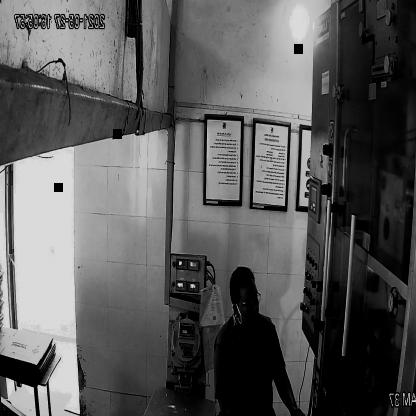goggles: (234, 285, 264, 312)
